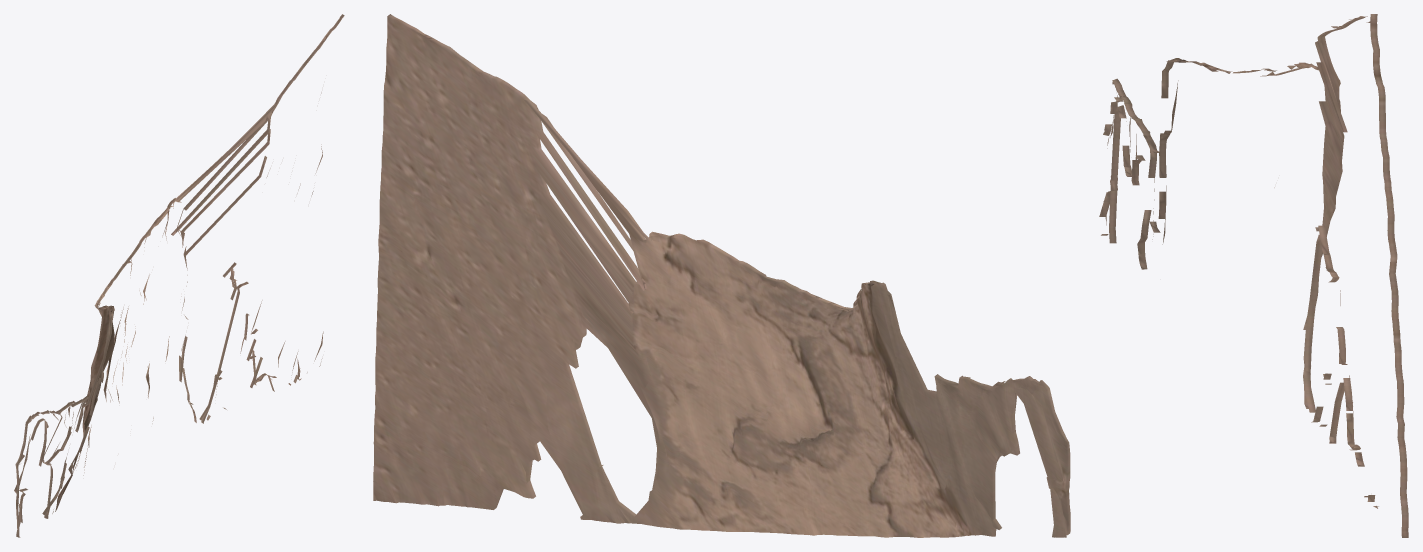
3 views of the same model, side by side, from view 1: azimuth 30°, elevation 25°; view 2: azimuth 150°, elevation 25°; view 3: azimuth 270°, elevation 25° (orthographic). The views are drawn at different scales.
Bounding box in the file's own units: 1.04 × 0.849 × 0.4546.
1 material, 1 textured.
